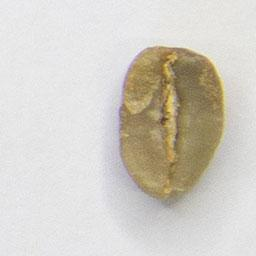longberry: (114, 42, 229, 205)
